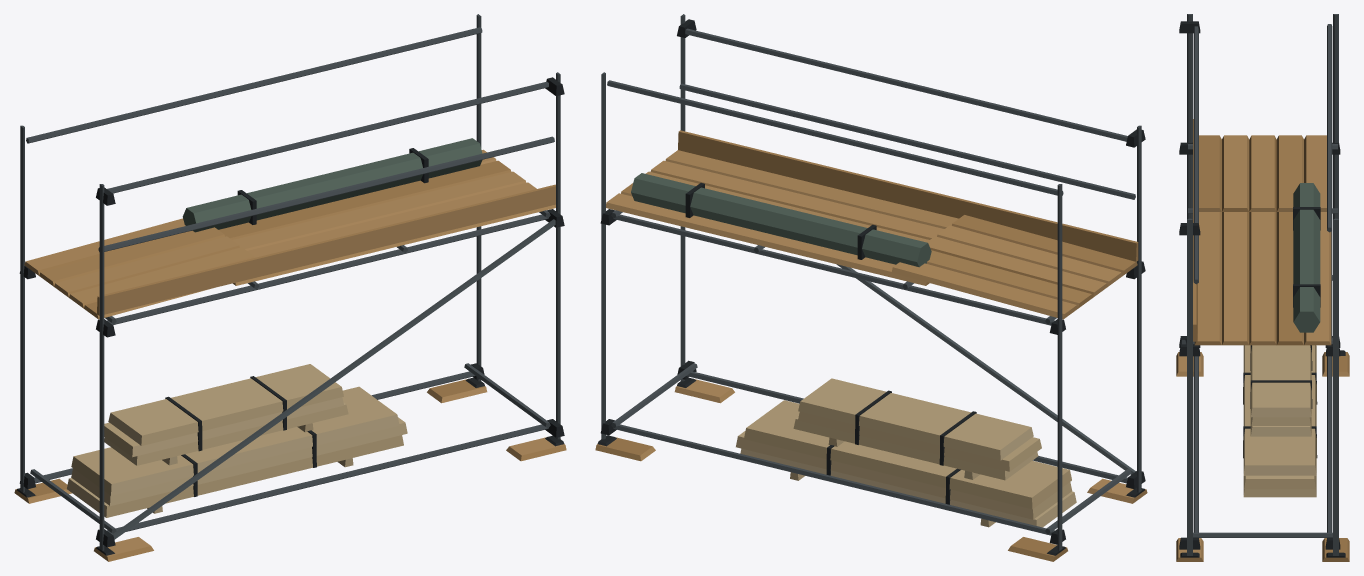
Rendered from scaffold-bay-4e051b.glb.
The picture shows the model from 3 angles, left to right: view 1: azimuth 30°, elevation 25°; view 2: azimuth 150°, elevation 25°; view 3: azimuth 270°, elevation 25°; orthographic projection. The views are drawn at different scales.
Parts seen in each view (by area): view 1: bay, materials-mesh, foot; view 2: bay, materials-mesh, foot; view 3: bay, materials-mesh, foot.
Part boxes in pixels (x1,y1,x2,y2): bay: (14, 14, 566, 550); materials-mesh: (67, 364, 407, 517); foot: (94, 537, 153, 561); bay: (595, 14, 1145, 561); materials-mesh: (736, 378, 1076, 527); foot: (1087, 478, 1147, 503); bay: (1176, 14, 1349, 561); materials-mesh: (1243, 345, 1317, 497); foot: (1176, 352, 1203, 376).
Bounding box in the file's own units: 4 × 3.1 × 1.42.
